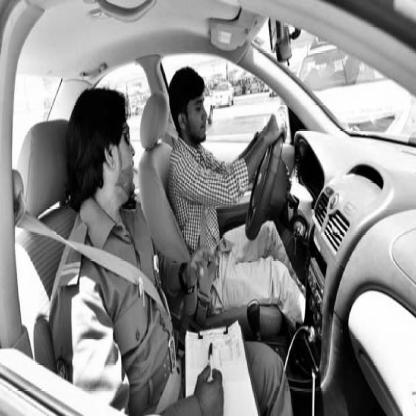seatbelt: (54, 80, 158, 376), (162, 65, 233, 244)
